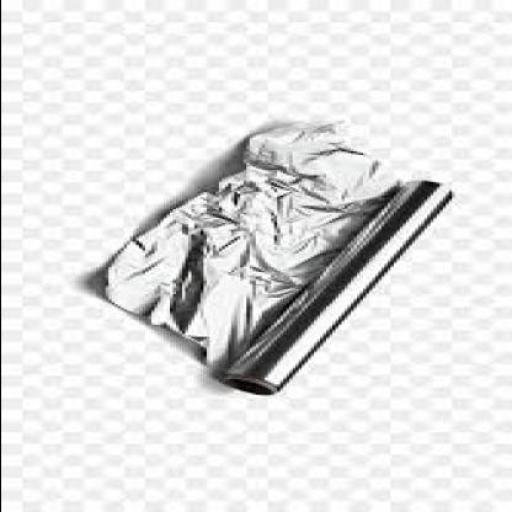metal: (101, 121, 460, 396)
